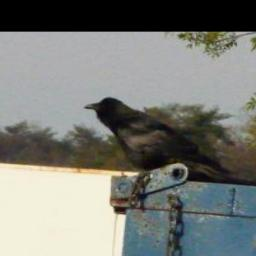Crow: (83, 96, 231, 180)
